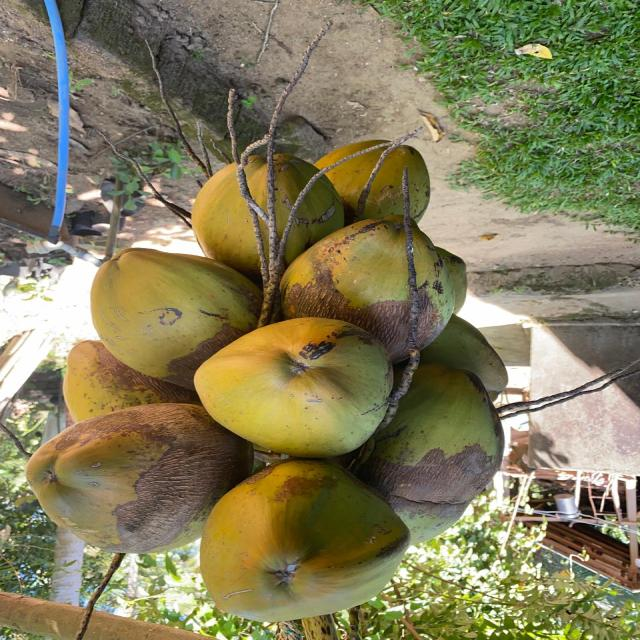coconut: (200, 459, 410, 622), (36, 403, 255, 554), (348, 365, 507, 547), (196, 319, 394, 457), (281, 215, 455, 356), (96, 250, 266, 388), (196, 155, 343, 278), (67, 338, 213, 428), (317, 141, 432, 229), (413, 314, 506, 397)
